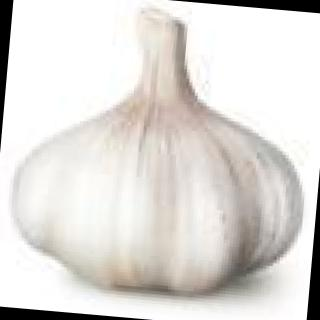Bawang Putih: (1, 1, 320, 302)
